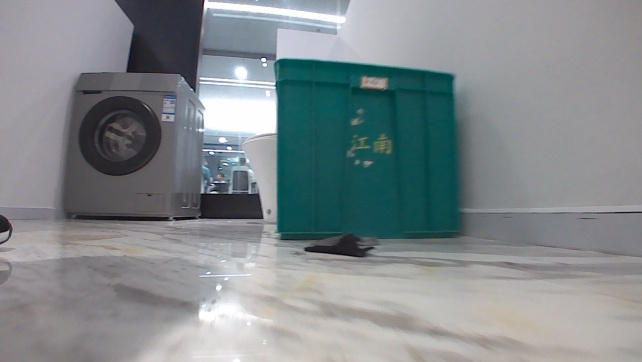socks: (301, 231, 380, 260)
toilet: (240, 129, 278, 225)
washing_machine: (59, 69, 206, 222)
